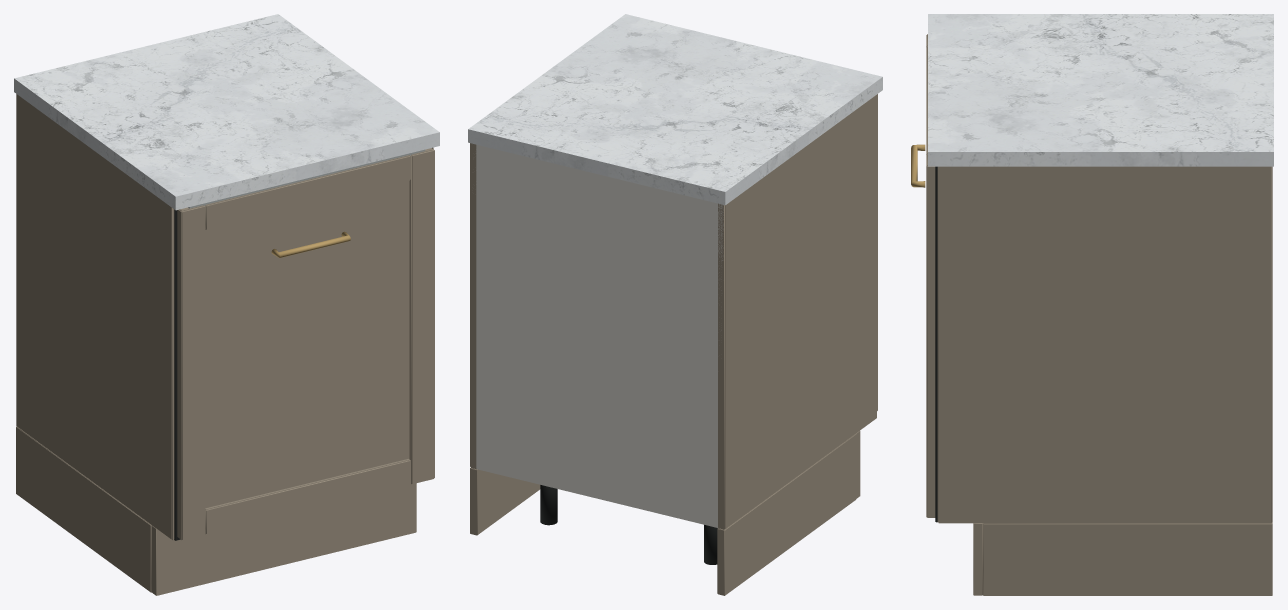
The model's file is traditional.dishwasher.gltf.
The picture shows the model from 3 angles, left to right: view 1: azimuth 30°, elevation 25°; view 2: azimuth 150°, elevation 25°; view 3: azimuth 270°, elevation 25°; orthographic projection. The views are drawn at different scales.
Parts seen in each view (by area): view 1: traditional.dishwasher.back; view 2: traditional.dishwasher.back; view 3: traditional.dishwasher.back.
Boxes of the visible parts, <box> form: traditional.dishwasher.back: <box>14,14,439,595</box>; traditional.dishwasher.back: <box>468,14,882,595</box>; traditional.dishwasher.back: <box>911,14,1273,595</box>.
Bounding box in the file's own units: 0.604 × 0.91 × 0.671.
6 materials, 1 textured.
